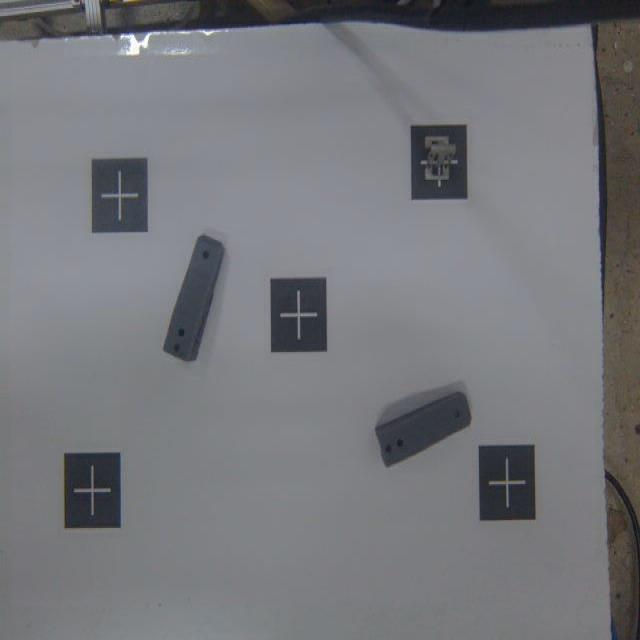pick2: (412, 123, 468, 197)
